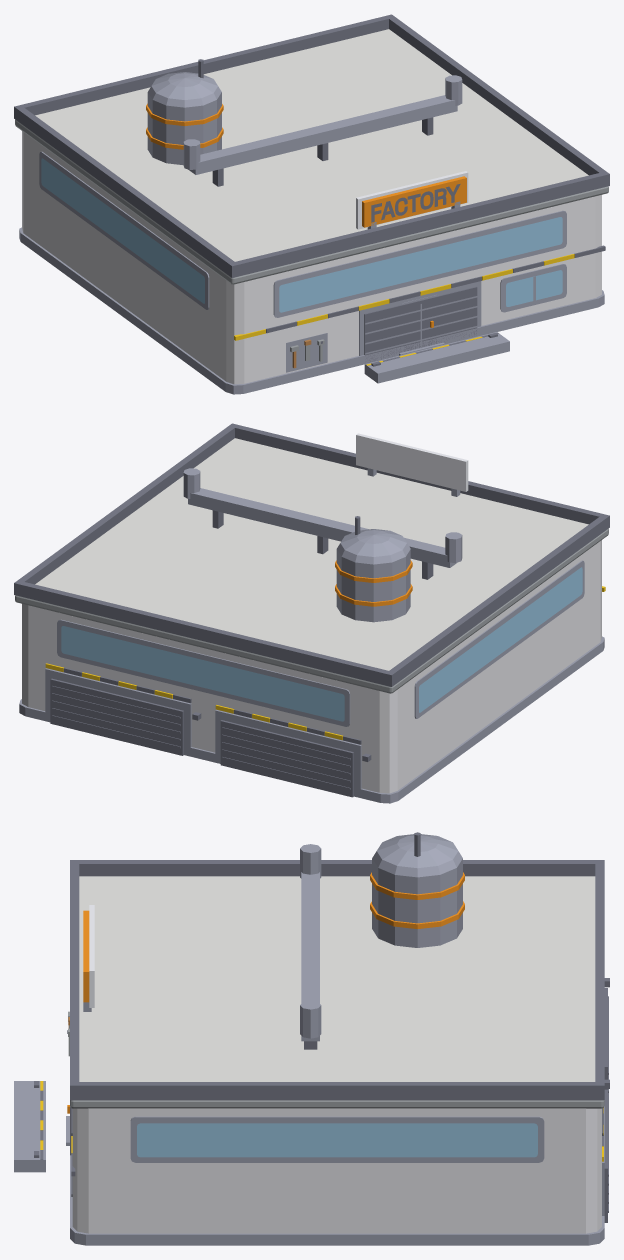
Rendered from factory-2x2-t1-tone-a.glb.
The picture shows the model from 3 angles, top to bottom: view 1: azimuth 30°, elevation 25°; view 2: azimuth 150°, elevation 25°; view 3: azimuth 270°, elevation 25°; orthographic projection. The views are drawn at different scales.
Parts seen in each view (by area): view 1: factory-2x2-t1-tone-a; view 2: factory-2x2-t1-tone-a; view 3: factory-2x2-t1-tone-a.
Part boxes in pixels (x1,y1,x2,y2): factory-2x2-t1-tone-a: (14,14,609,394); factory-2x2-t1-tone-a: (14,423,609,803); factory-2x2-t1-tone-a: (14,832,609,1245).
Size of the model in its own units: 2 by 1.04 by 2.23.
Materials: 1 (1 with a texture image).
